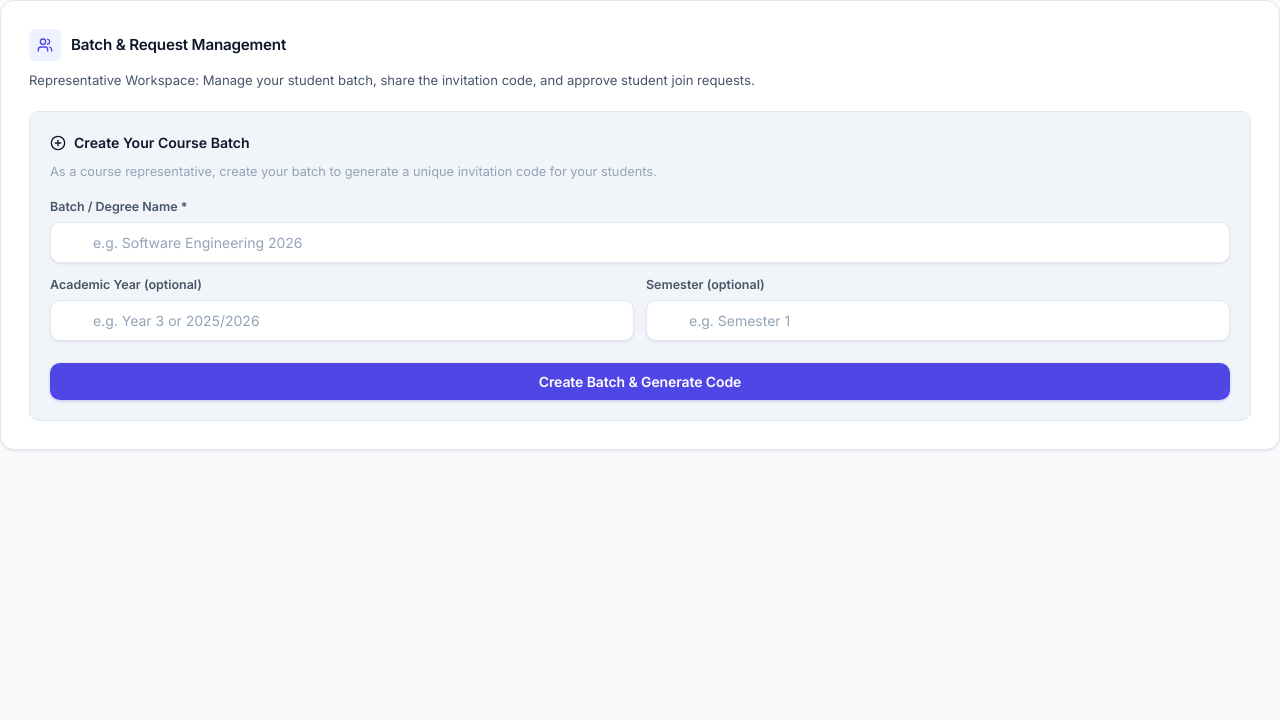
Test: RepBatchManagement › submits create batch request and displays newly created batch
This screenshot has width=1280, height=720.
Type "Software Engineering 2026" into the field labelled "Batch / Degree Name *". click: (640, 242)
box: [50,222,1230,263]
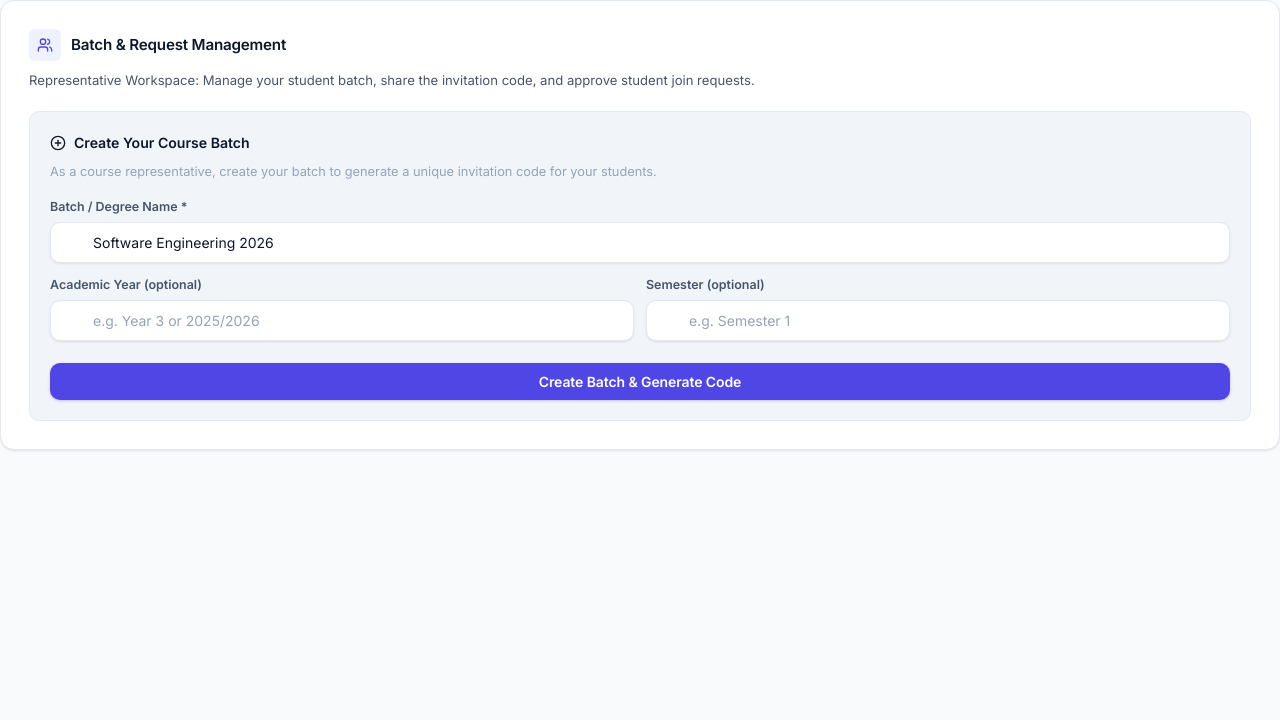
Click the button "Create Batch & Generate Code". click: (640, 381)
box: [50,363,1230,400]
(page scrolled)
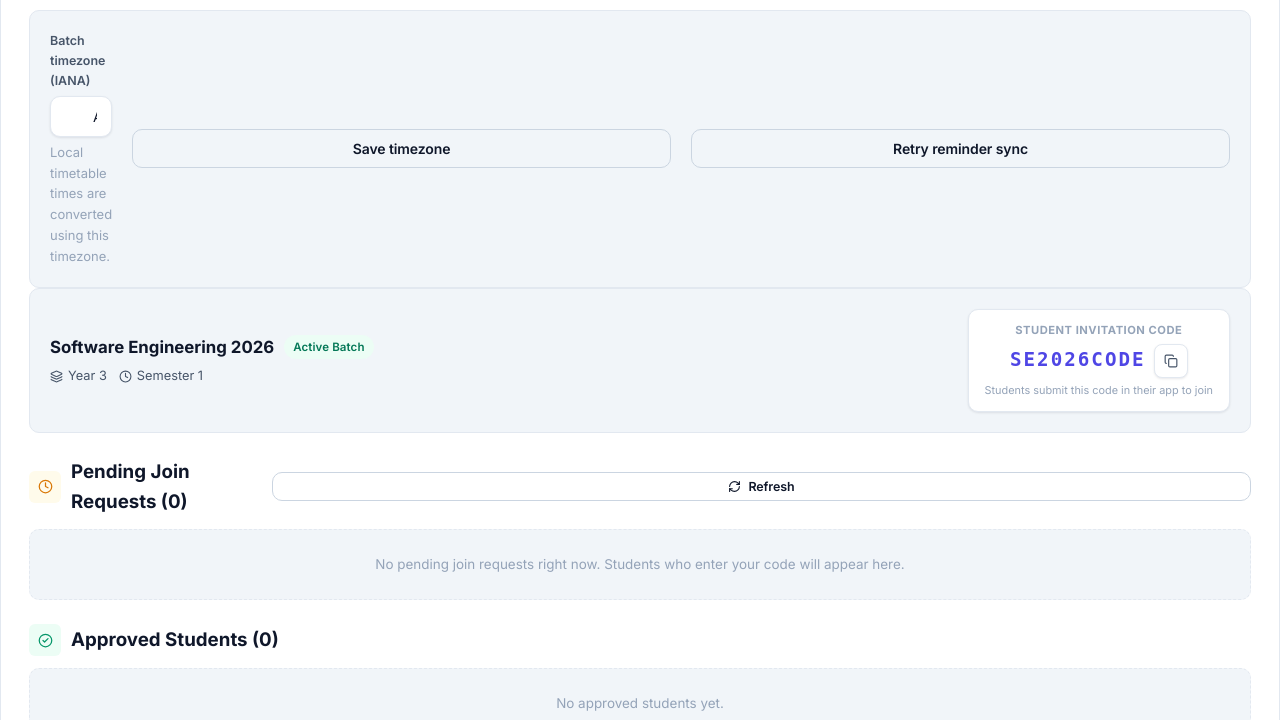
Check: the text "SE2026CODE" is shown, box [1010,345,1146,376]
